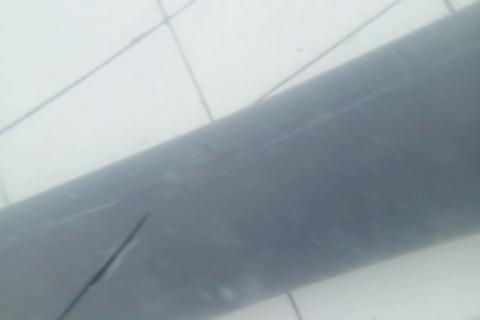keretakan: (55, 209, 152, 320)
